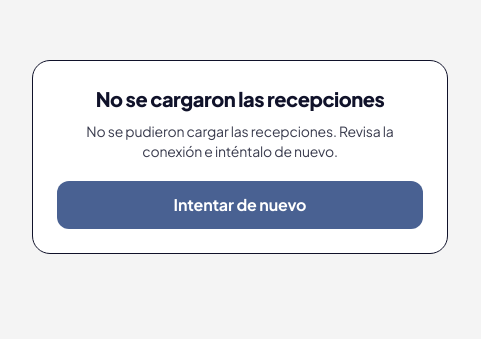
Test: operación móvil de Bodega › distingue una falla al cargar del estado sin recepciones y permite reintentar
The width and height of the screenshot is (481, 339).
Expected: the heading "No se cargaron las recepciones" is shown, [96,86,384,111]
Click the button "Intentar de nuevo": (240, 205) [57,181,423,229]
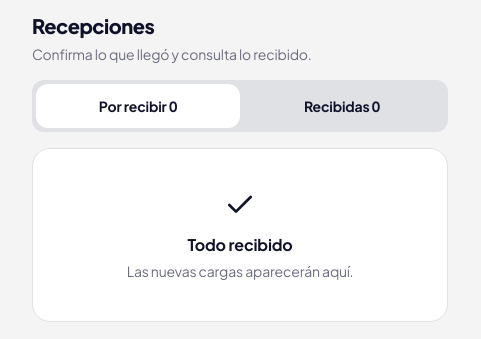
Expected: the text "Todo recibido" is shown, [187,234,293,255]
